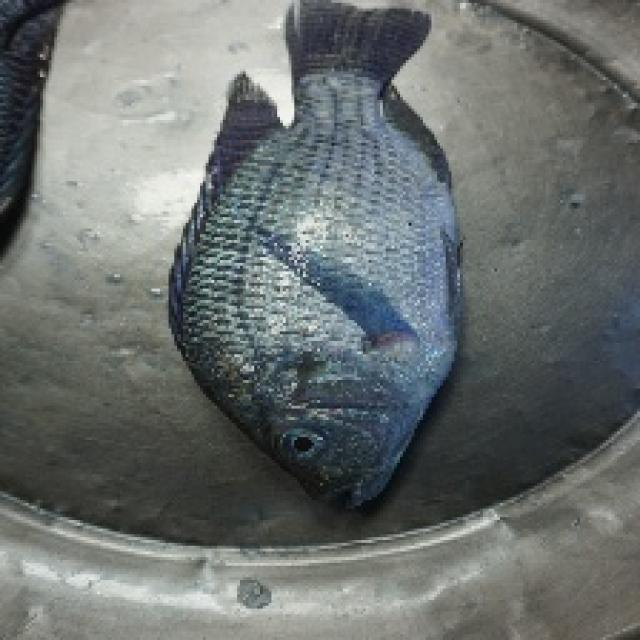Fresh: (183, 0, 503, 503)
